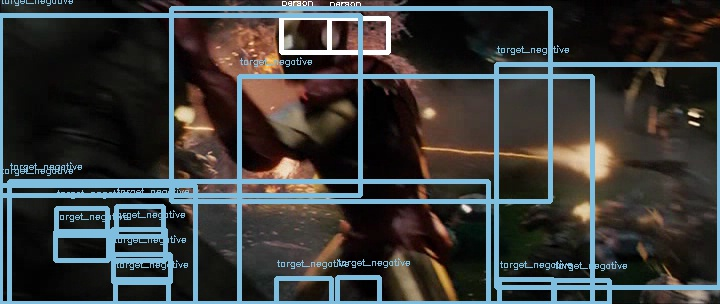person: (275, 1, 343, 83), (274, 1, 342, 83), (276, 1, 344, 83), (275, 0, 343, 82), (275, 2, 343, 84)
target_negative: (261, 186, 667, 278), (220, 95, 648, 159), (362, 142, 544, 283), (66, 197, 142, 277), (352, 49, 424, 128), (27, 128, 98, 163)
